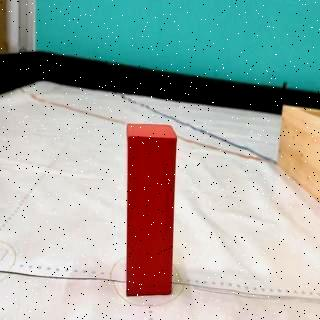redbox: (126, 124, 177, 298)
